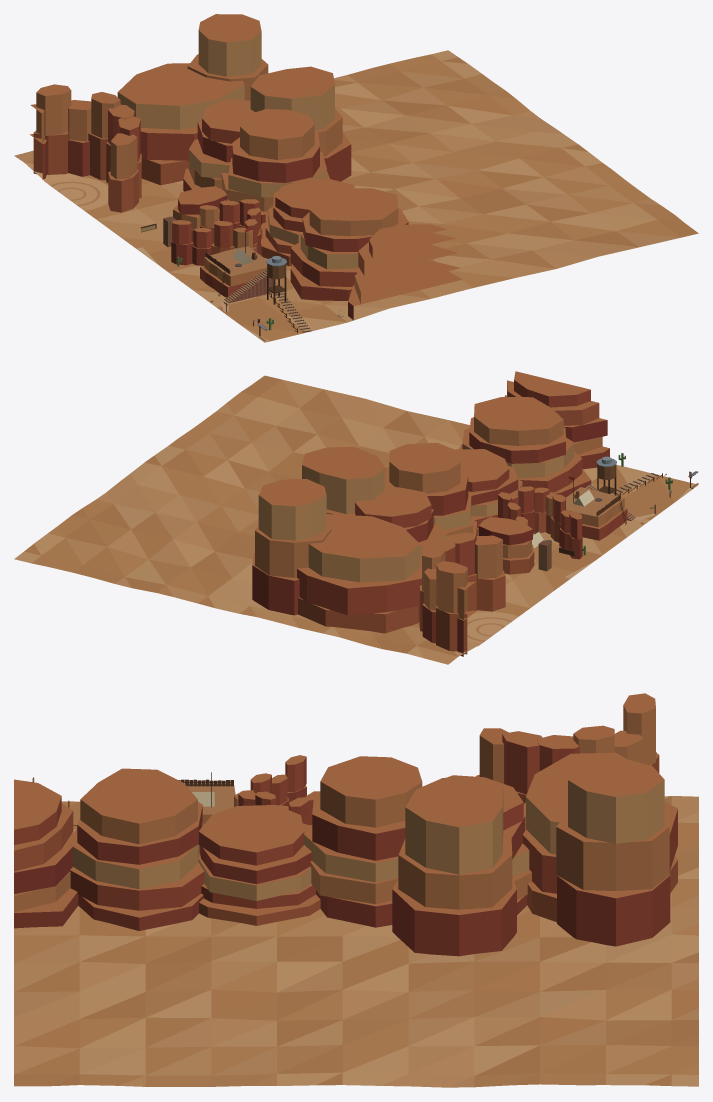
3 views of the same model, one above another, from view 1: azimuth 30°, elevation 25°; view 2: azimuth 150°, elevation 25°; view 3: azimuth 270°, elevation 25° (orthographic). The views are drawn at different scales.
Visible parts, largest first — view 1: baked; view 2: baked; view 3: baked.
Boxes of the visible parts, <box> form: baked: <box>14,14,698,342</box>; baked: <box>14,371,698,664</box>; baked: <box>14,693,698,1087</box>.
Bounding box in the file's own units: 125 × 29.77 × 125.
